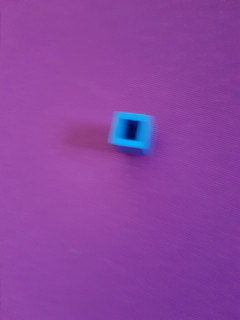1x1 blue: (104, 108, 159, 161)
